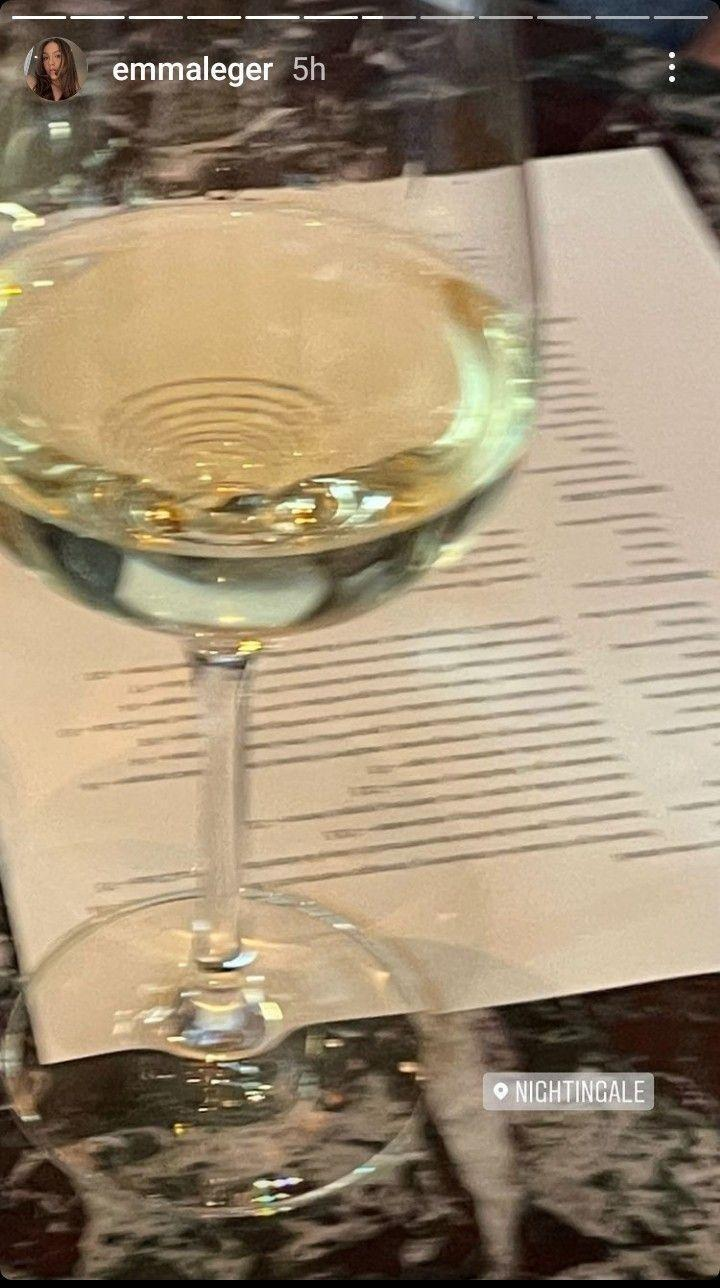glass-wine: (0, 25, 542, 1197)
